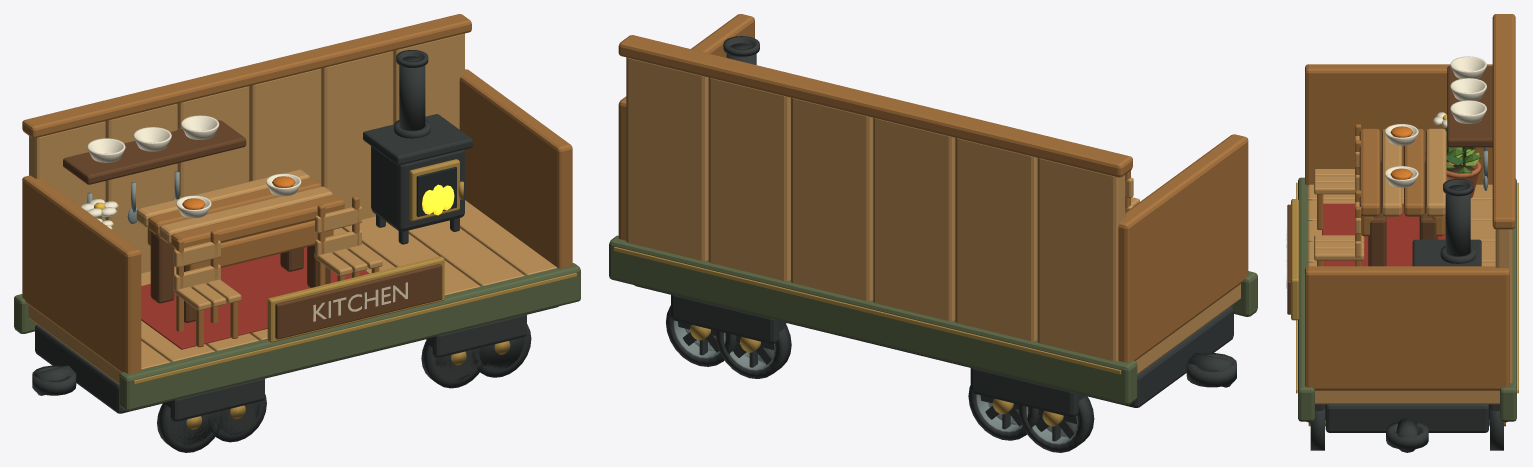
Rendered from 03_kitchen_carriage.glb.
3 renders of one model, left to right at view 1: azimuth 30°, elevation 25°; view 2: azimuth 150°, elevation 25°; view 3: azimuth 270°, elevation 25°, orthographic. The views are drawn at different scales.
Visible parts, largest first — view 1: End half wall, Olive side sill.002, End half wall.001, Back wall cap, Back wall board.004, Back wall board.003, Kitchen rug, Wood nameplate.001, Back wall board.001, Back wall board.002, Kitchen shelf, Stove body (+37 smaller); view 2: End half wall, Olive side sill.003, Back wall board, Back wall board.001, Back wall board.002, Back wall board.004, Back wall board.003, Back wall board.005, Back wall cap, Underframe.001, Bogie housing.007, Bogie housing.006 (+9 smaller); view 3: End half wall.001, End half wall, Back wall cap, Underframe.001, Kitchen rug, Floorboard.019, Olive side sill.002, Kitchen shelf, Table top plank, Table top plank.003, Flue, Olive side sill.003 (+32 smaller).
Part boxes in pixels (<box>): End half wall: <box>22,175,141,373</box>; Olive side sill.002: <box>119,263,580,410</box>; End half wall.001: <box>459,69,572,268</box>; Back wall cap: <box>22,14,471,138</box>; Back wall board.004: <box>321,51,393,219</box>; Back wall board.003: <box>249,68,321,185</box>; Kitchen rug: <box>141,247,369,349</box>; Wood nameplate.001: <box>275,264,442,339</box>; Back wall board.001: <box>105,103,177,273</box>; Back wall board.002: <box>177,86,249,197</box>; Kitchen shelf: <box>63,120,246,184</box>; Stove body: <box>371,146,464,231</box>; End half wall: <box>1118,134,1248,362</box>; Olive side sill.003: <box>609,235,1137,404</box>; Back wall board: <box>1037,158,1125,361</box>; Back wall board.001: <box>955,137,1037,341</box>; Back wall board.002: <box>873,117,955,321</box>; Back wall board.004: <box>708,77,790,280</box>; Back wall board.003: <box>791,97,873,301</box>; Back wall board.005: <box>626,57,708,260</box>; Back wall cap: <box>618,35,1132,177</box>; Underframe.001: <box>634,285,1233,407</box>; Bogie housing.007: <box>671,294,786,343</box>; Bogie housing.006: <box>970,367,1085,417</box>; End half wall.001: <box>1305,266,1509,390</box>; End half wall: <box>1305,64,1492,185</box>; Back wall cap: <box>1492,14,1515,229</box>; Underframe.001: <box>1325,404,1488,432</box>; Kitchen rug: <box>1322,203,1445,266</box>; Floorboard.019: <box>1315,390,1499,404</box>; Olive side sill.002: <box>1298,177,1314,421</box>; Kitchen shelf: <box>1447,66,1492,147</box>; Table top plank: <box>1359,128,1380,216</box>; Table top plank.003: <box>1426,128,1446,216</box>; Flue: <box>1445,185,1470,256</box>; Olive side sill.003: <box>1500,178,1516,421</box>.
Size of the model in its own units: 4.09 by 2.02 by 1.64.
